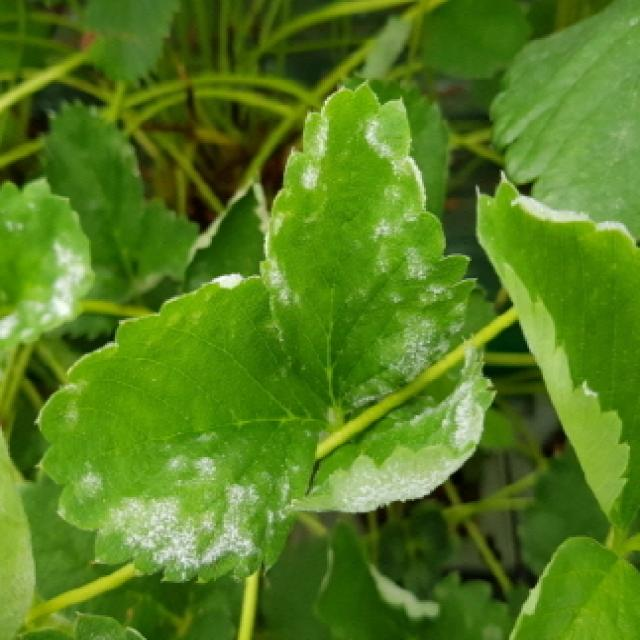Powdery Mildew Leaf: (35, 270, 324, 583), (256, 77, 479, 411), (474, 171, 640, 534), (290, 340, 497, 515), (0, 175, 98, 374)
